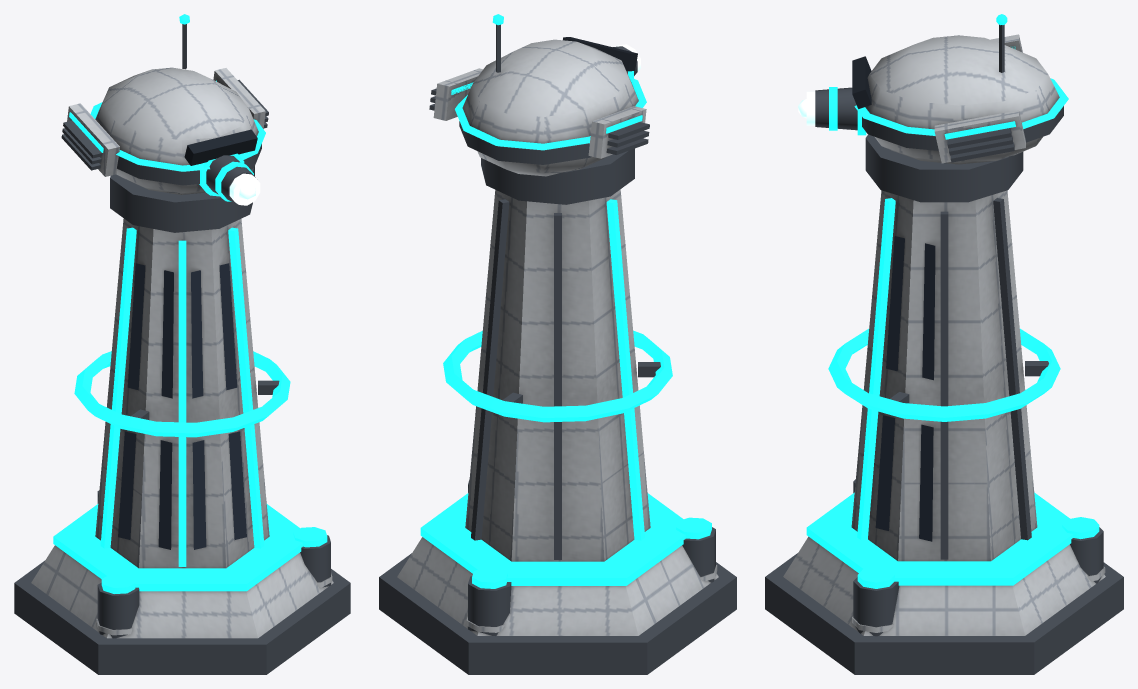
The model's file is tower_l8.glb.
The picture shows the model from 3 angles, left to right: view 1: azimuth 30°, elevation 25°; view 2: azimuth 150°, elevation 25°; view 3: azimuth 270°, elevation 25°; orthographic projection. The views are drawn at different scales.
Visible parts, largest first — view 1: tower_l8; view 2: tower_l8; view 3: tower_l8.
Part boxes in pixels (x1,y1,x2,y2): tower_l8: (14, 14, 350, 674); tower_l8: (379, 14, 736, 674); tower_l8: (765, 14, 1123, 674).
Bounding box in the file's own units: 0.433 × 0.939 × 0.5.
Materials: 3 (1 with a texture image).
